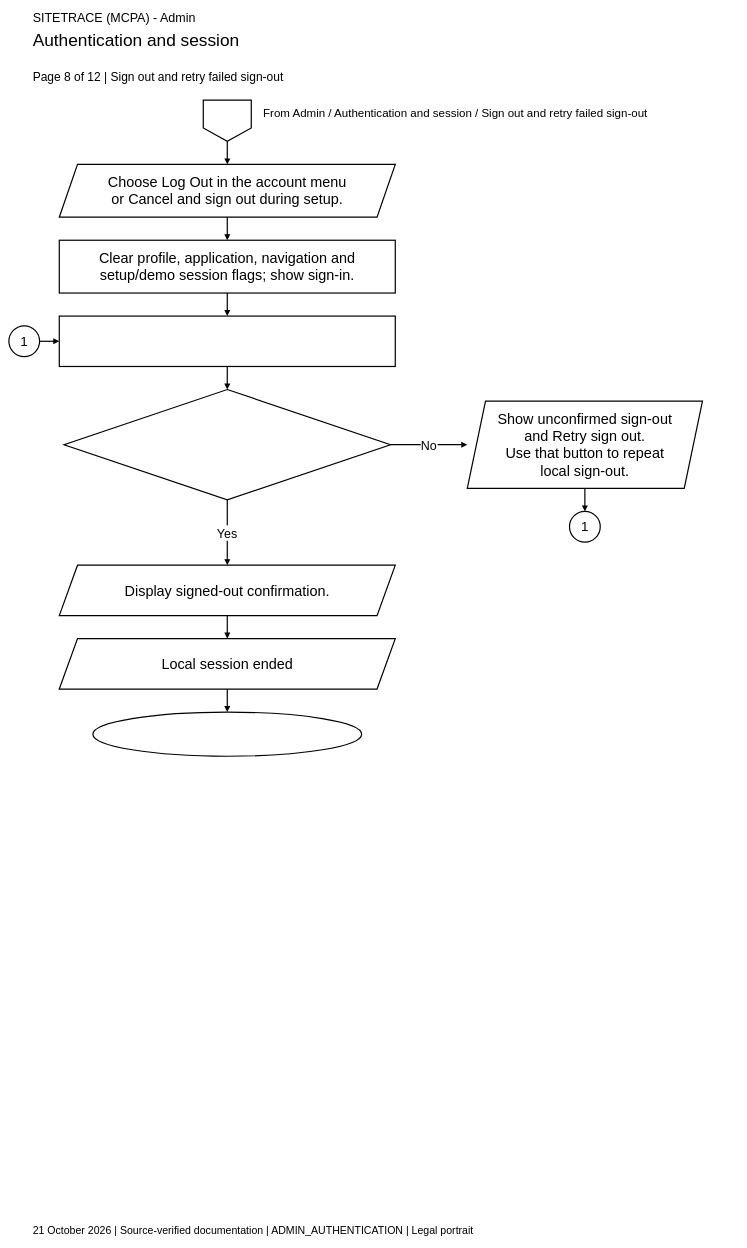
Some shapes in this 747 by 1248 pixel diagram are drawn without their labels. Here are the shapes that lost their labels. From the top down, the box of each, then its label:
(202, 99, 252, 142): AB
(58, 315, 396, 367): Call Auth signOut with local scope.
(63, 389, 391, 500): Sign-out confirmed?
(92, 711, 362, 757): END
